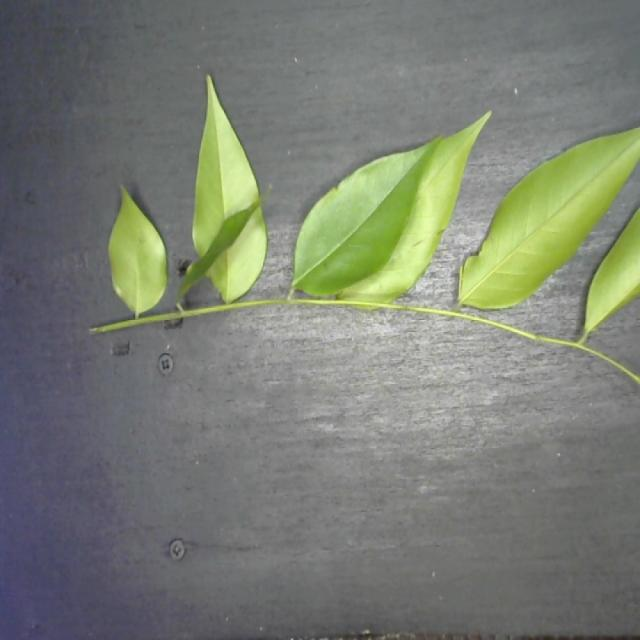biodegradable: (89, 70, 640, 391)
